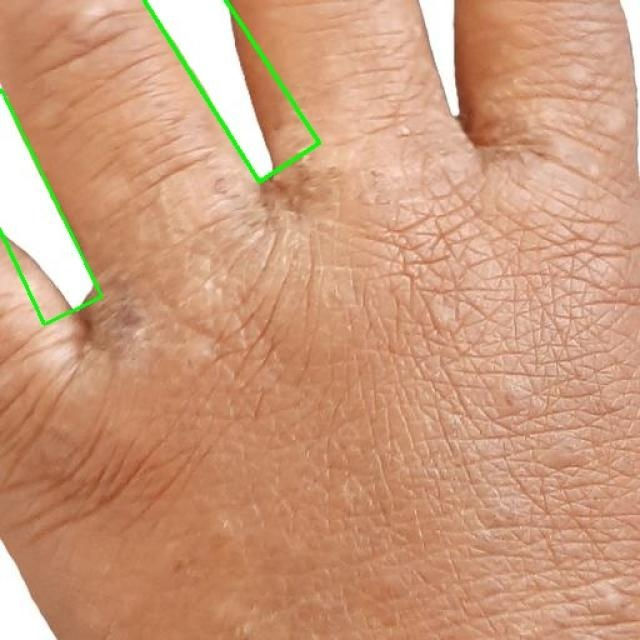Scabies: (144, 0, 319, 182), (0, 79, 105, 324)
